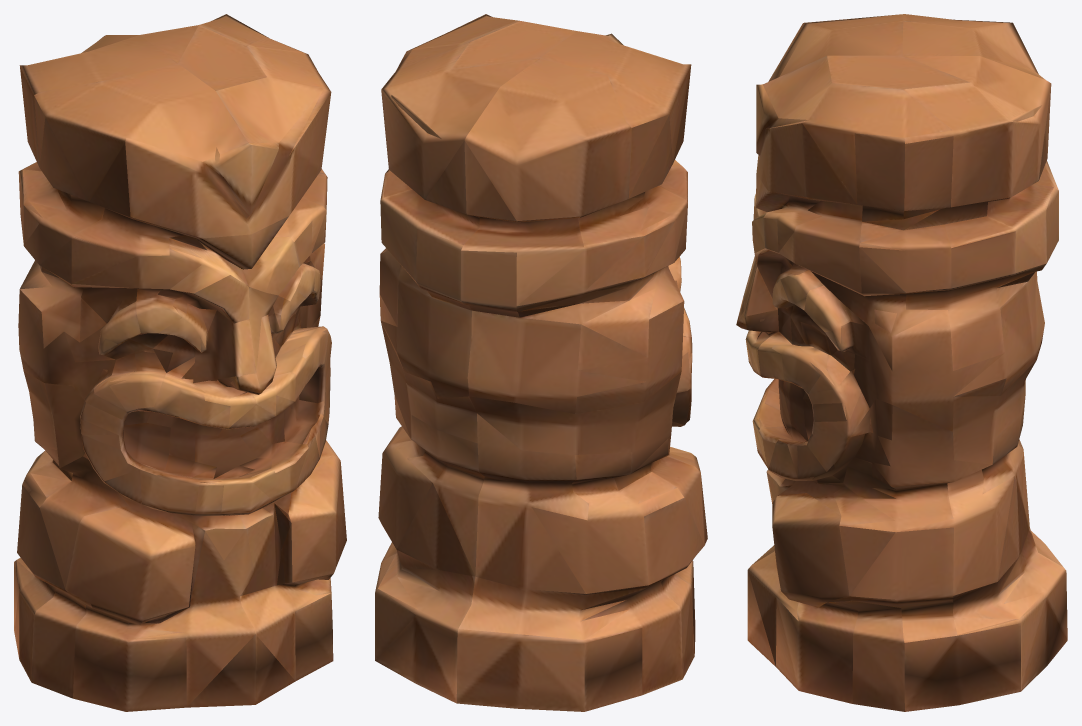
The model's file is art_tiki_wood.glb.
The picture shows the model from 3 angles, left to right: view 1: azimuth 30°, elevation 25°; view 2: azimuth 150°, elevation 25°; view 3: azimuth 270°, elevation 25°; orthographic projection.
Bounding box in the file's own units: 0.5293 × 1 × 0.5137.
Materials: 1 (1 with a texture image).
